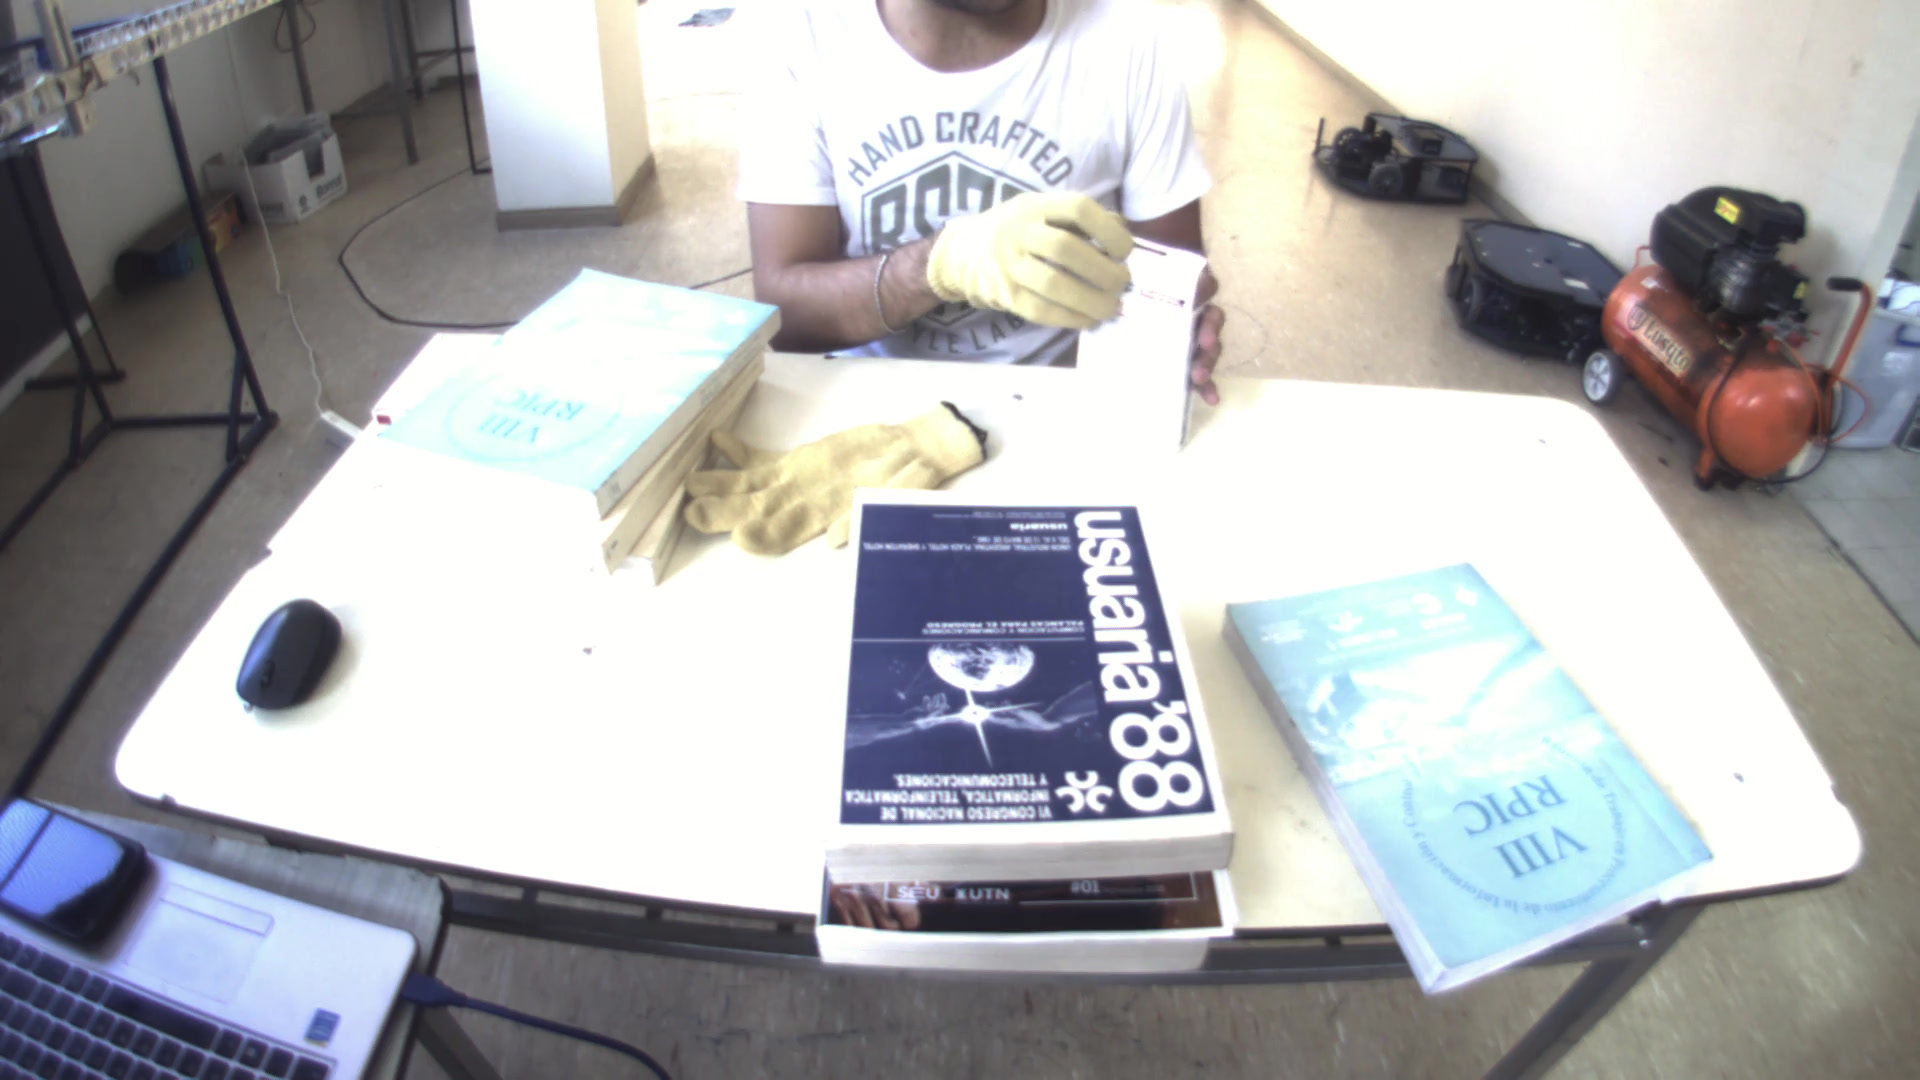hand: (914, 175, 1153, 335), (1170, 258, 1233, 415)
